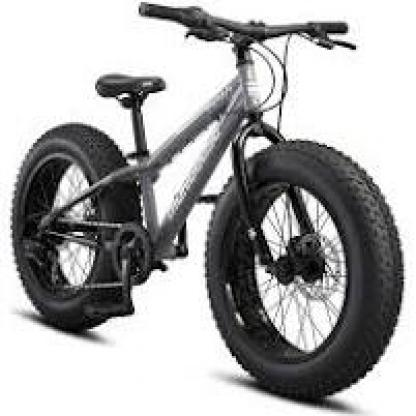Bike: (2, 0, 416, 399)
